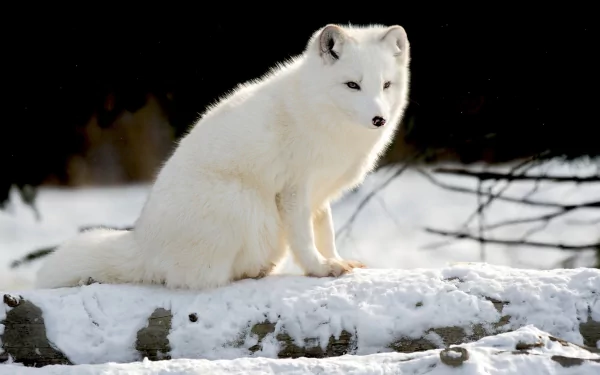arcticfox: (313, 43, 406, 166)
